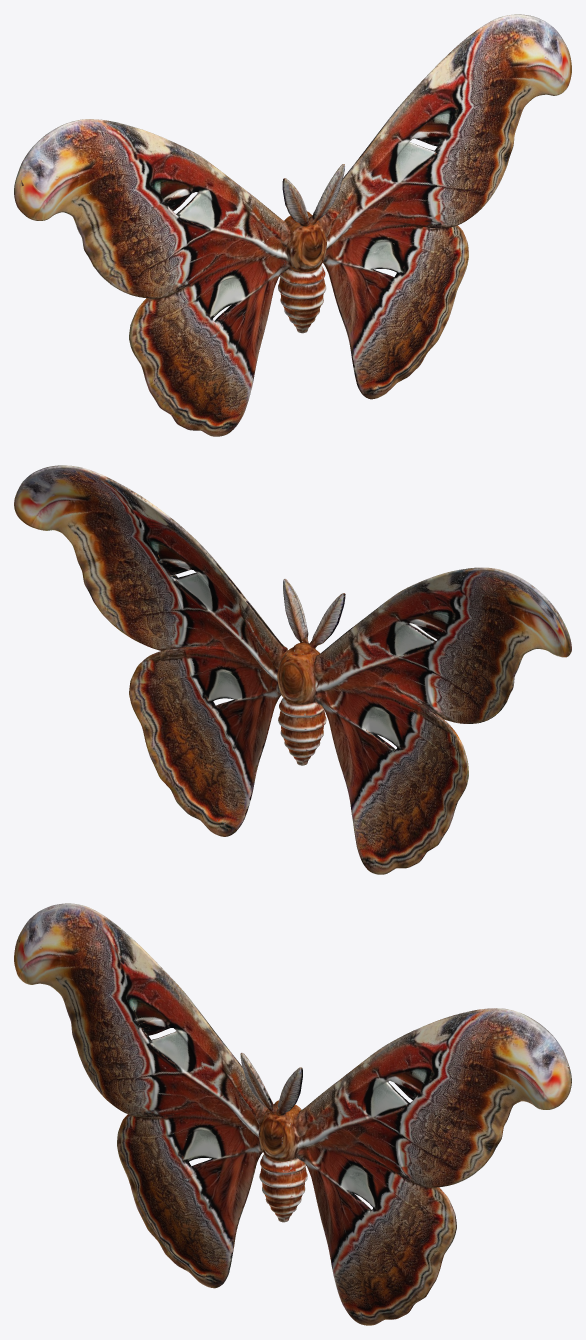
File: atlas.glb
The picture shows the model from 3 angles, top to bottom: view 1: azimuth 30°, elevation 25°; view 2: azimuth 150°, elevation 25°; view 3: azimuth 330°, elevation 25°; orthographic projection.
Parts seen in each view (by area): view 1: atlas; view 2: atlas; view 3: atlas.
Part boxes in pixels (box(x1,y1,x2,y2)): atlas: box(14, 14, 571, 436); atlas: box(14, 465, 571, 874); atlas: box(14, 903, 571, 1325).
Size of the model in its own units: 1 by 0.5882 by 0.0842.
Materials: 1 (1 with a texture image).
